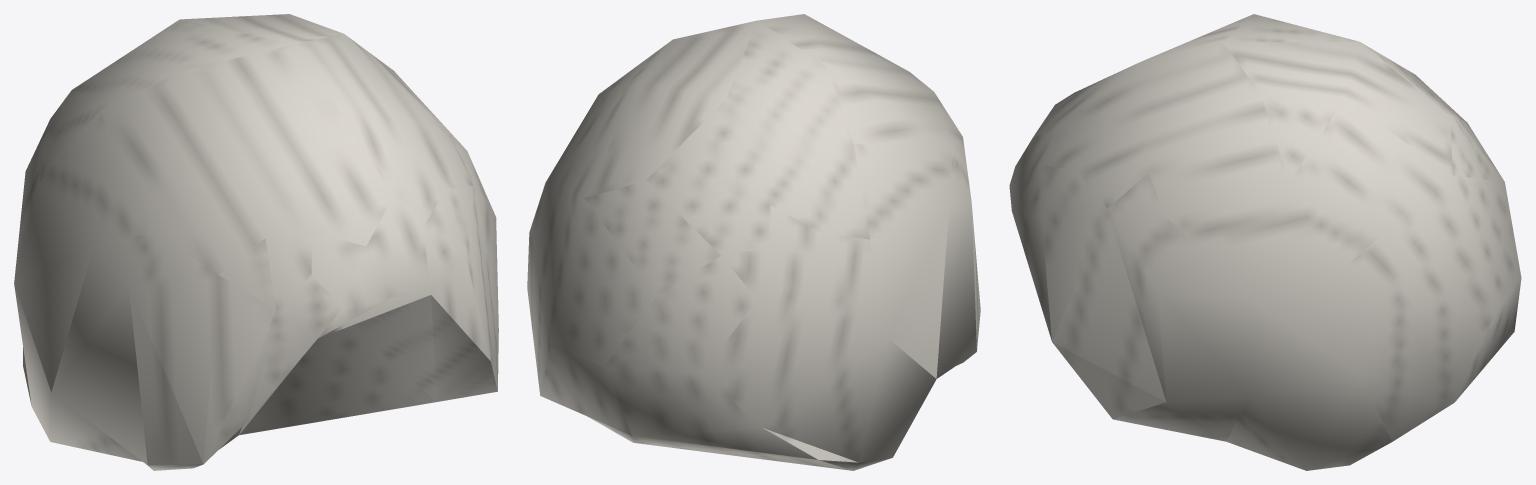
The model's file is toc_ngan_edits.far.glb.
3 renders of one model, left to right at view 1: azimuth 30°, elevation 25°; view 2: azimuth 150°, elevation 25°; view 3: azimuth 270°, elevation 25°, orthographic. The views are drawn at different scales.
Visible parts, largest first — view 1: toc_ngan_edits; view 2: toc_ngan_edits; view 3: toc_ngan_edits.
Boxes of the visible parts, left/top/right/bottom form: toc_ngan_edits: left=14, top=14, right=498, bottom=470; toc_ngan_edits: left=527, top=14, right=980, bottom=470; toc_ngan_edits: left=1009, top=14, right=1521, bottom=470.
Size of the model in its own units: 0.1719 by 0.1575 by 0.2035.
Materials: 1 (1 with a texture image).
